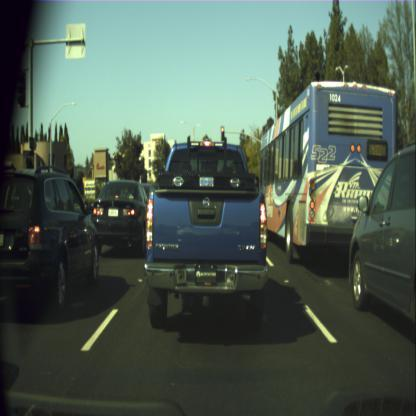Red: (220, 125, 224, 141)
off: (16, 68, 26, 108)
